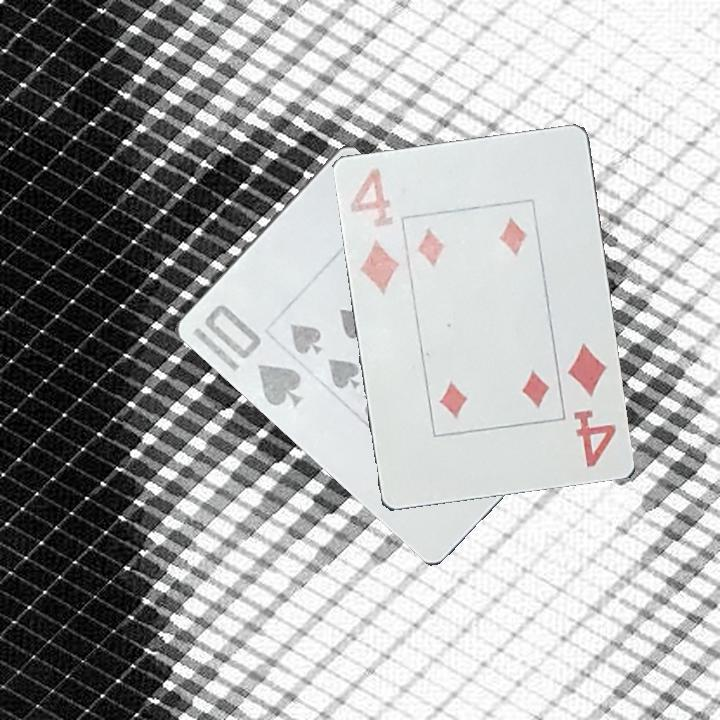4d: (347, 165, 403, 298), (564, 339, 620, 471)
Ts: (199, 301, 305, 413)
